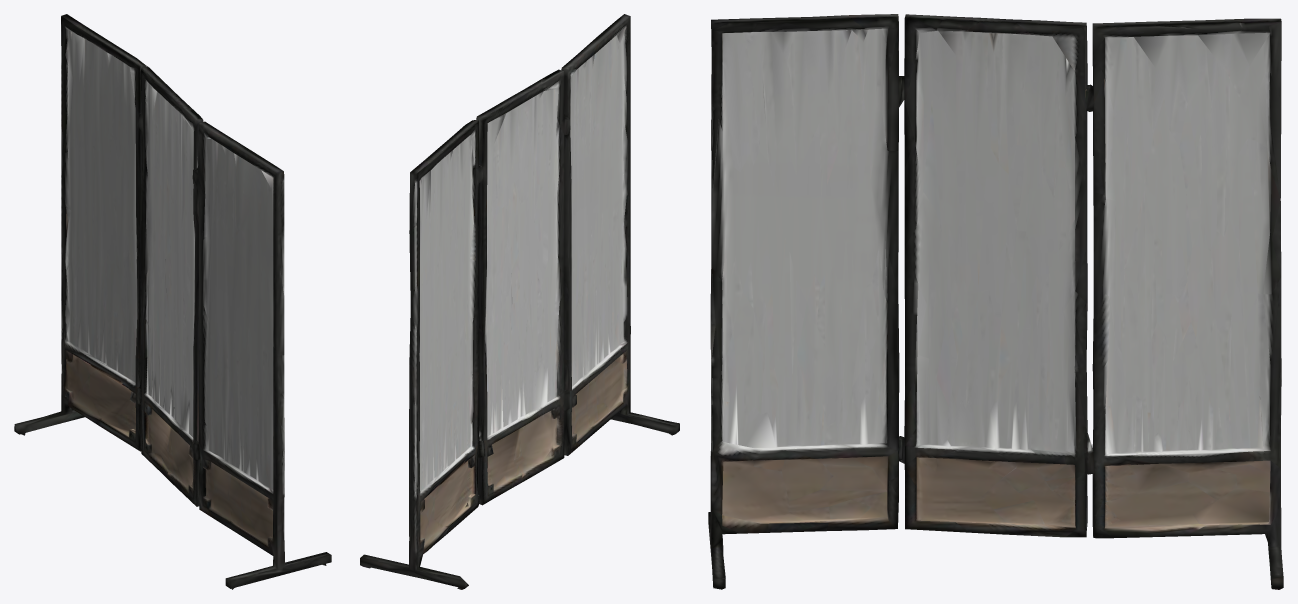
File: au_furn_divider_loft.glb
3 renders of one model, left to right at view 1: azimuth 30°, elevation 25°; view 2: azimuth 150°, elevation 25°; view 3: azimuth 270°, elevation 25°, orthographic. The views are drawn at different scales.
Visible parts, largest first — view 1: tripo_node_d23a4000-300c-4ceb-bd88-896a167a496e; view 2: tripo_node_d23a4000-300c-4ceb-bd88-896a167a496e; view 3: tripo_node_d23a4000-300c-4ceb-bd88-896a167a496e.
Boxes of the visible parts, x1,y1,x2,y2 form: tripo_node_d23a4000-300c-4ceb-bd88-896a167a496e: (14, 14, 331, 589); tripo_node_d23a4000-300c-4ceb-bd88-896a167a496e: (360, 14, 679, 589); tripo_node_d23a4000-300c-4ceb-bd88-896a167a496e: (708, 14, 1283, 589).
Size of the model in its own units: 0.2616 by 0.9788 by 0.9497.
1 material, 1 textured.
